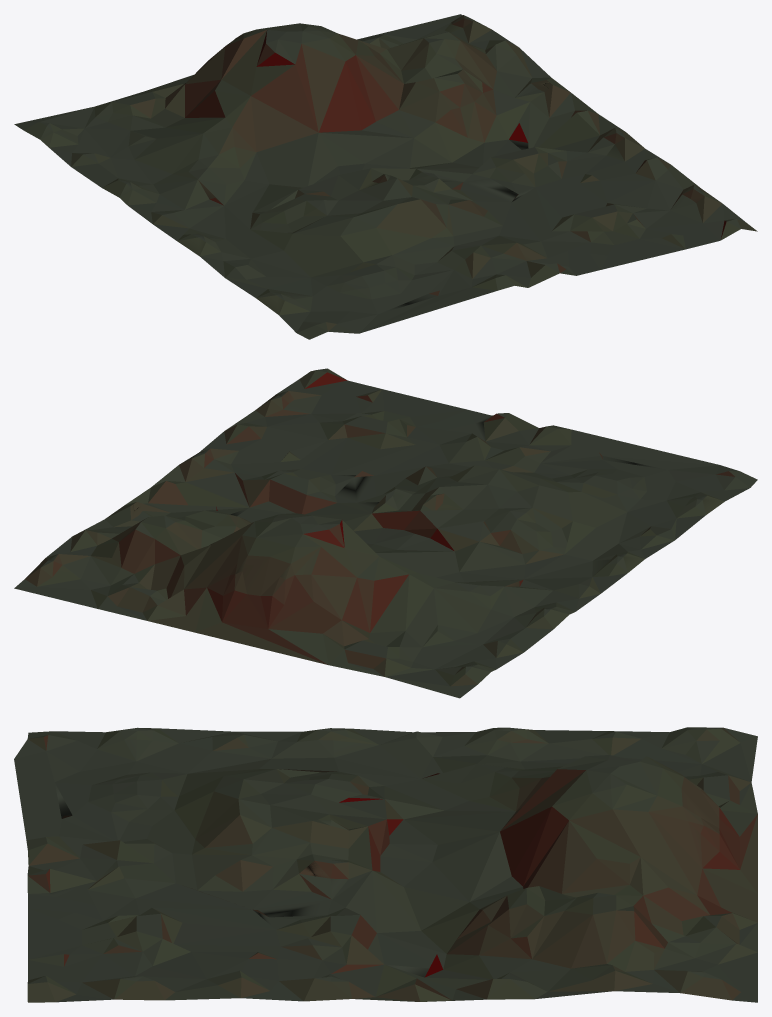
The model's file is level2.fbx.
3 views of the same model, one above another, from view 1: azimuth 30°, elevation 25°; view 2: azimuth 150°, elevation 25°; view 3: azimuth 270°, elevation 25° (orthographic). The views are drawn at different scales.
Parts seen in each view (by area): view 1: Mesh; view 2: Mesh; view 3: Mesh.
Part boxes in pixels (bbox=[...]): Mesh: bbox=[14, 14, 757, 339]; Mesh: bbox=[14, 368, 757, 698]; Mesh: bbox=[14, 727, 757, 1002].
Bounding box in the file's own units: 33475 × 6580 × 38908.
